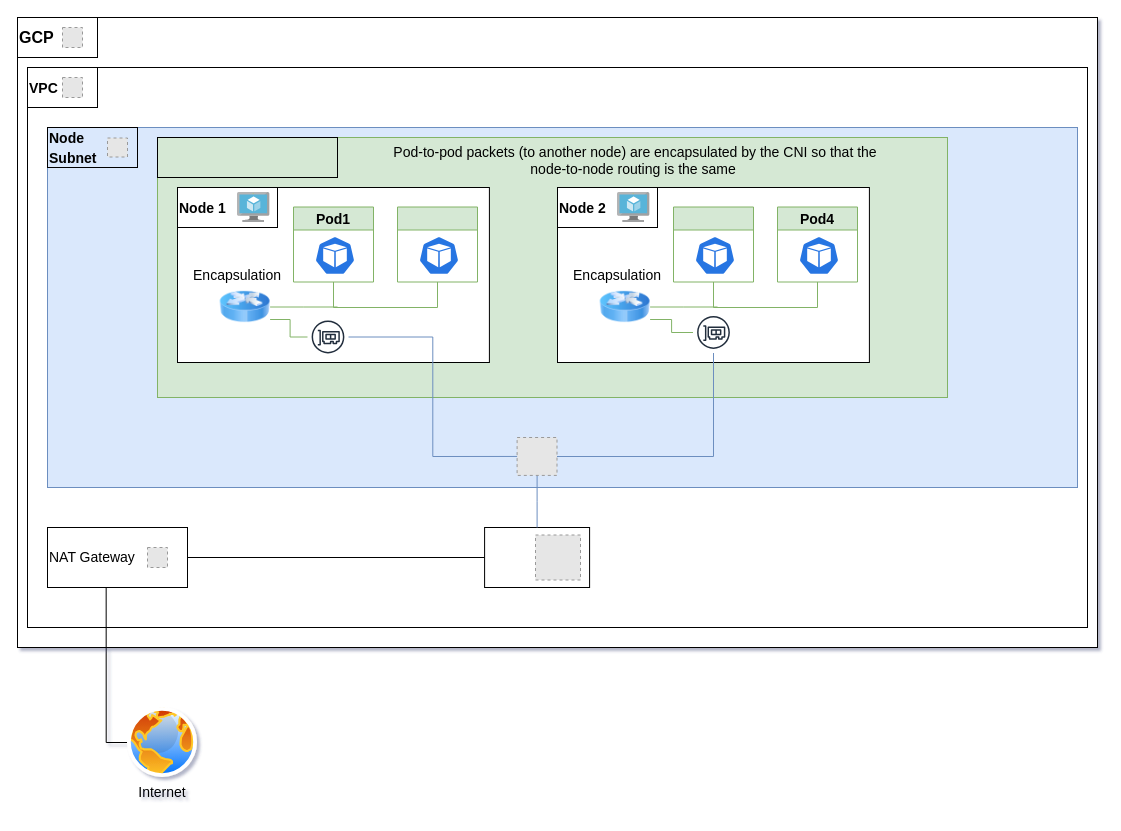
The diagram is 1121 pixels wide and 831 high, and some of its shapes have lost their labels. Grey dashed boxes stand in for pictures. The box of each missing label's shape, as (x1, y1, x2, y2) in pixels:
Overlay Network (Pod and service subnet): (156, 136, 338, 178)
Pod2: (396, 206, 478, 282)
Pod3: (672, 206, 754, 282)
Router: (484, 526, 590, 588)
